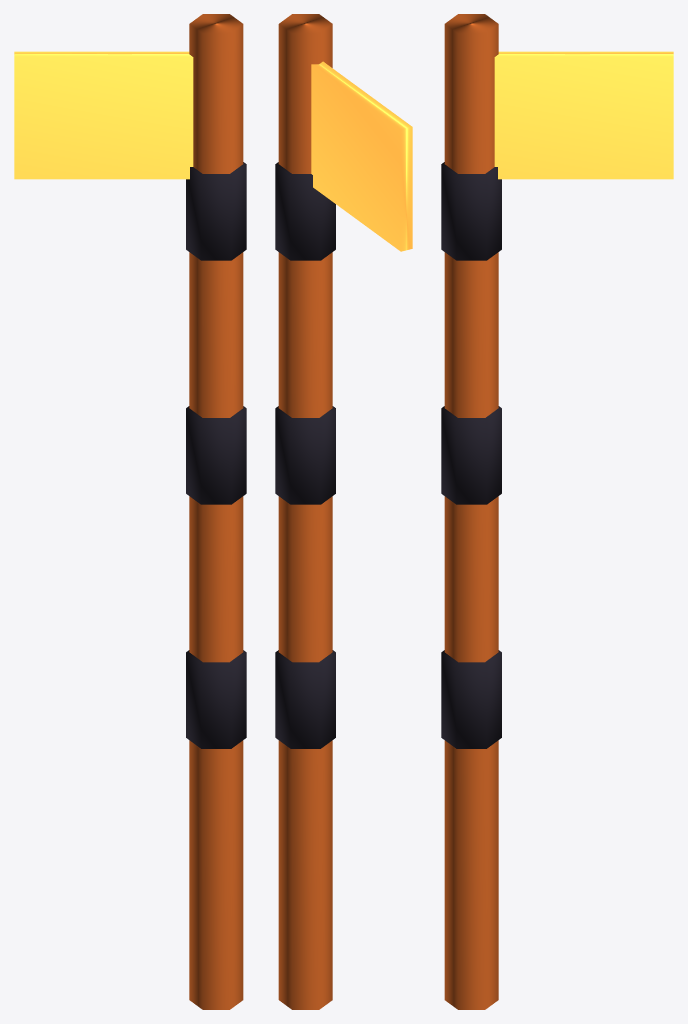
File: frost_marker.glb
3 renders of one model, left to right at view 1: azimuth 90°, elevation 25°; view 2: azimuth 210°, elevation 25°; view 3: azimuth 270°, elevation 25°, orthographic.
Parts seen in each view (by area): view 1: Marker; view 2: Marker; view 3: Marker.
Boxes of the visible parts, bbox=[...] form: Marker: bbox=[14, 14, 246, 1009]; Marker: bbox=[275, 14, 412, 1009]; Marker: bbox=[441, 14, 673, 1009].
Size of the model in its own units: 0.0779 by 1.6 by 0.345.
